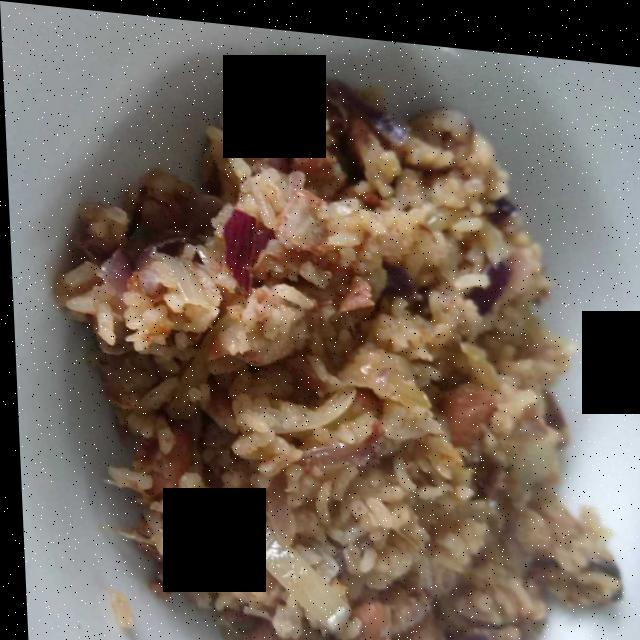onion: (191, 379, 397, 621)
rice: (70, 60, 606, 640)
